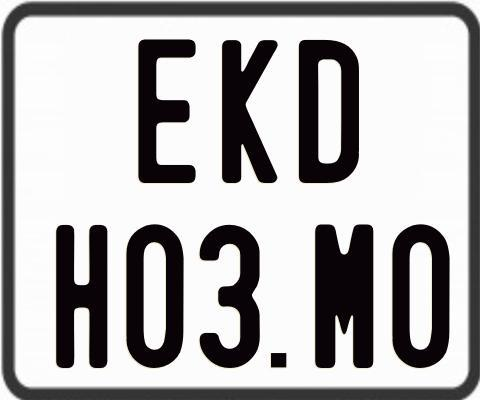0: (124, 223, 184, 367), (389, 222, 448, 367)
3: (197, 223, 260, 369)
D: (298, 38, 358, 185)
E: (135, 39, 194, 184)
H: (53, 225, 109, 373)
K: (219, 40, 279, 188)
M: (312, 222, 370, 369)
